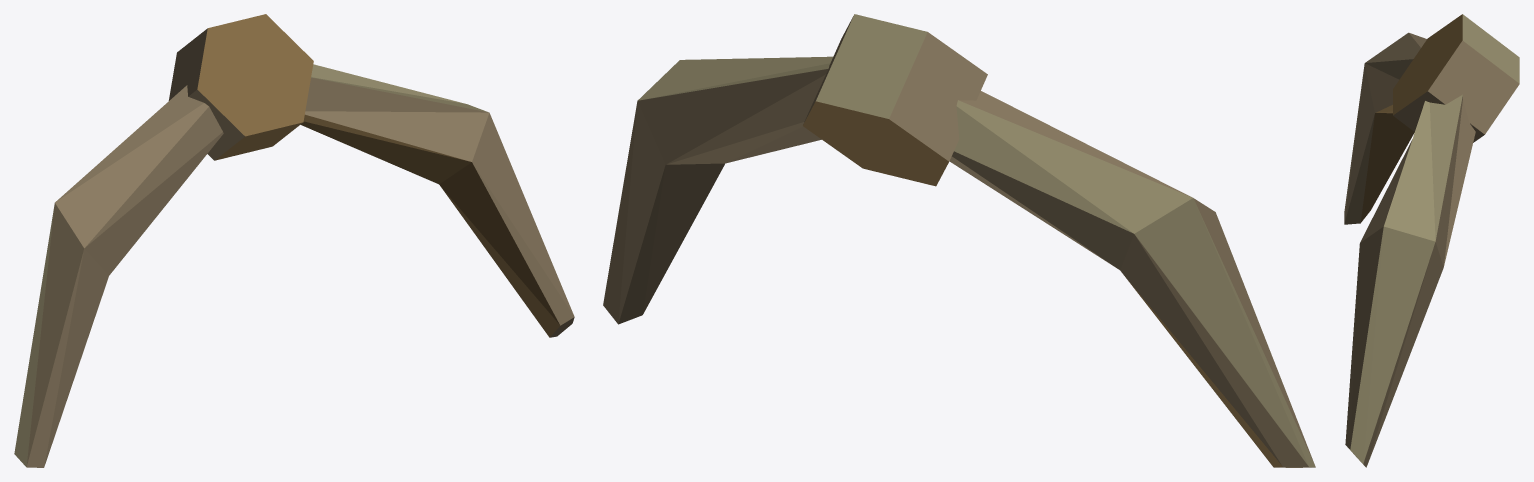
File: TB_D_Env_BoneG_B.FBX
The picture shows the model from 3 angles, left to right: view 1: azimuth 30°, elevation 25°; view 2: azimuth 150°, elevation 25°; view 3: azimuth 270°, elevation 25°; orthographic projection. The views are drawn at different scales.
Visible parts, largest first — view 1: TB_D_Env_BoneG_B; view 2: TB_D_Env_BoneG_B; view 3: TB_D_Env_BoneG_B.
Boxes of the visible parts, x1,y1,x2,y2 form: TB_D_Env_BoneG_B: [14, 14, 574, 467]; TB_D_Env_BoneG_B: [603, 14, 1315, 467]; TB_D_Env_BoneG_B: [1344, 14, 1519, 467].
Size of the model in its own units: 2.03 by 1.19 by 0.5948.
